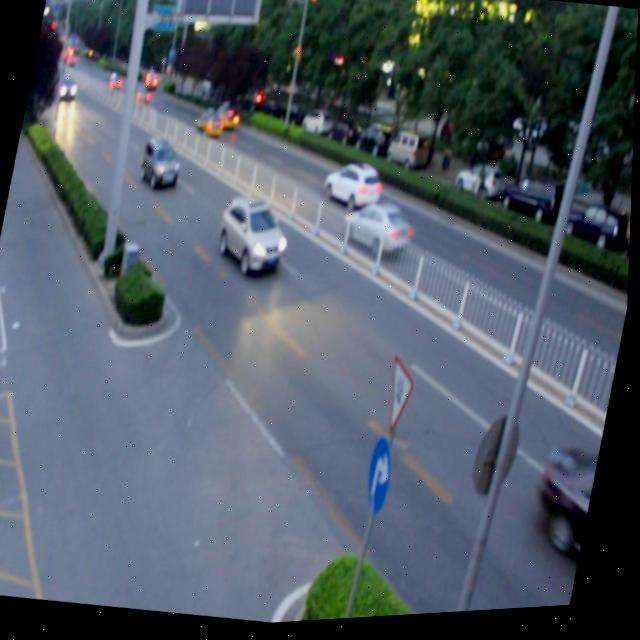car: (217, 198, 292, 275), (343, 201, 418, 263), (327, 165, 385, 213), (142, 138, 185, 191), (209, 103, 245, 138), (194, 108, 228, 143)
